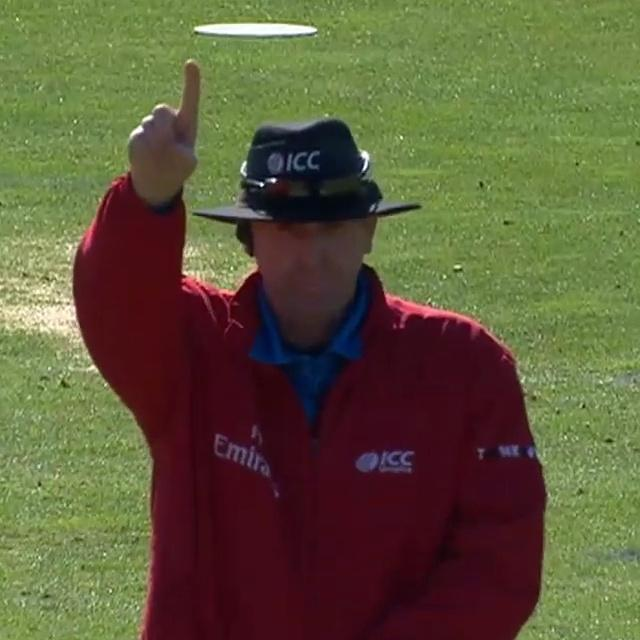umpire: (29, 52, 581, 640)
